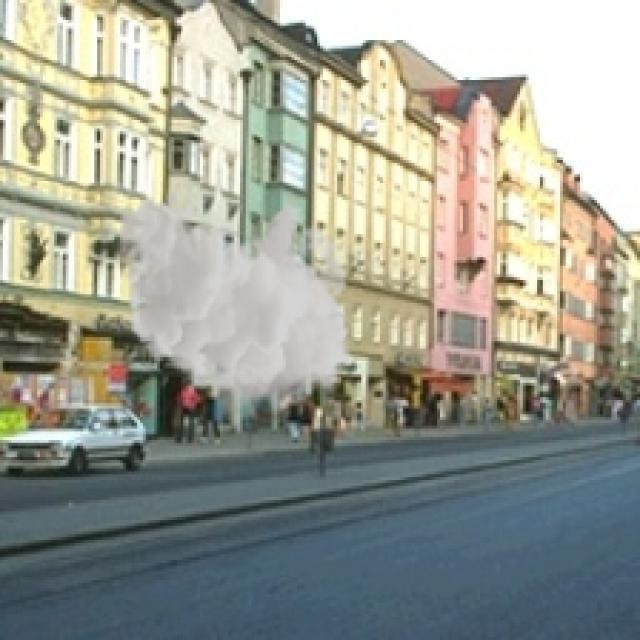Smoke: (117, 188, 354, 422)
